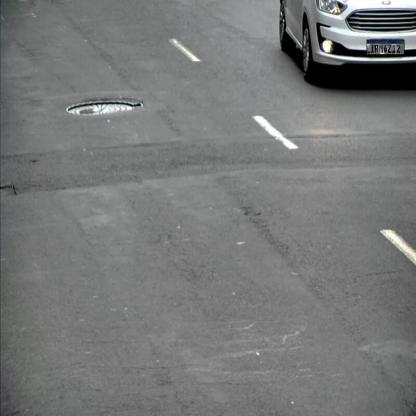PlacaM: (366, 39, 404, 55)
